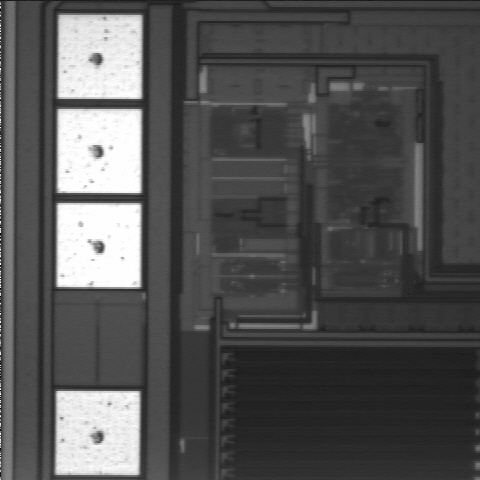pad: (57, 203, 141, 288), (58, 15, 142, 99), (57, 109, 141, 193), (56, 391, 140, 475)
